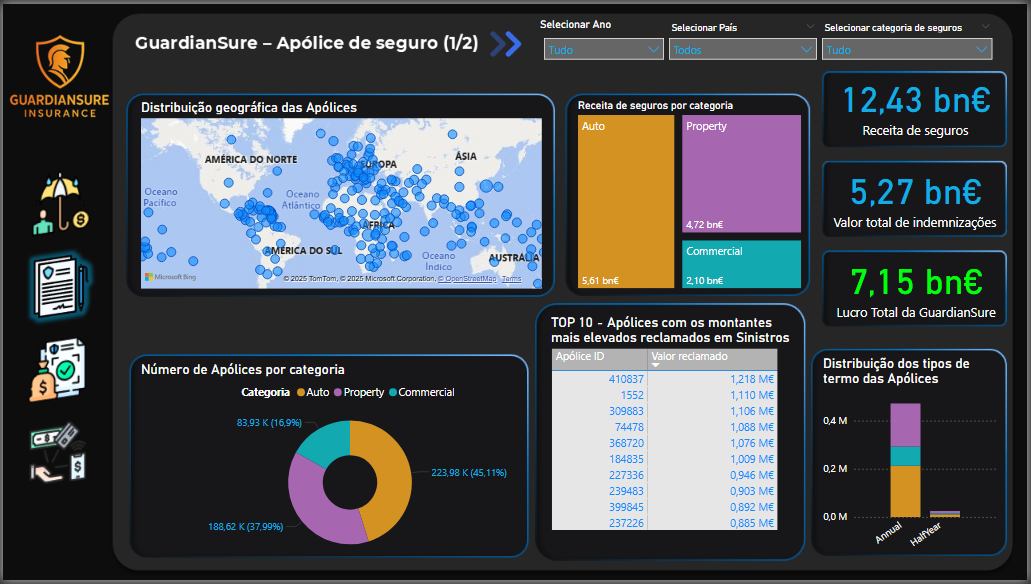

The dashboard page shown, as its layout file describes it:
{"tool":"powerbi","page":{"name":"Apólice de Seguro (1/2)","canvas":[1280,720],"ordinal":2},"visuals":[{"type":"donutChart","title":"Número de Apólices por categoria","fields":{"Y":["Medidas.X_Número total de apólices"],"Category":["fact_PolicyDetails.Product"]},"box":[167.5,445.8,532.5,255.8],"z":0},{"type":"treemap","title":"Receita de seguros por categoria","fields":{"Values":["Medidas.X_Valor total recebido(prémios)"],"Group":["fact_PolicyDetails.Product"]},"box":[713.3,118.3,289.2,241.7],"z":1000},{"type":"columnChart","title":"Distribuição dos tipos de termo das Apólices","fields":{"Category":["fact_PolicyDetails.SelectedTermType"],"Y":["Medidas.X_Número total de apólices"],"Series":["fact_PolicyDetails.Product"]},"box":[1019.7,439.3,227.8,262.5],"z":2000},{"type":"card","fields":{"Values":["Medidas.X_ValorTotalReclamadoPorApolice"]},"box":[1030,191.7,220,96.7],"z":3000},{"type":"slicer","fields":{"Values":["dim_PolicyHolderDetails.Todos os Paises","dim_PolicyHolderDetails.Country"]},"box":[822.5,17.5,205,57.5],"z":4000},{"type":"slicer","fields":{"Values":["fact_PolicyDetails.Product"]},"box":[1013.8,17.5,232.5,57.5],"z":5000},{"type":"card","fields":{"Values":["Medidas.X_Valor total recebido(prémios)"]},"box":[1025.8,75,229.2,99.2],"z":6000},{"type":"map","title":"Distribuição geográfica das Apólices","fields":{"Category":["dim_PolicyHolderDetails.Country"],"Size":["Medidas.X_Número total de apólices"]},"box":[167.5,118.3,510.8,241.7],"z":7000},{"type":"actionButton","box":[22.5,192.5,100,107.5],"z":8000},{"type":"actionButton","box":[22.5,400.8,100,107.5],"z":9000},{"type":"actionButton","box":[22.5,508.3,100,107.5],"z":10000},{"type":"card","fields":{"Values":["Medidas.Lucro Total"]},"box":[1030.8,304.2,220,96.7],"z":11000},{"type":"tableEx","title":"TOP 10 - Apólices com os montantes mais elevados reclamados em Sinistros","fields":{"Values":["fact_Claims.PolicyID","Medidas.X_ValorTotalReclamadoPorApolice"]},"box":[680,387.3,311.8,300],"z":12000},{"type":"actionButton","box":[600.9,29.1,52.7,40],"z":13000},{"type":"slicer","title":"Selecionar Ano","fields":{"Values":["dim_Calendário.Ano"]},"box":[666.2,17.5,170,68.8],"z":14000},{"type":"actionButton","box":[37.5,38.6,66.1,71.6],"z":15000}]}

Visuals, with their boxes in screenshot pixels (x1, y1, x2, y2), scaled from the page's 1280x720 canvas onto the 1031x584 screenshot:
"Número de Apólices por categoria" donutChart: (135, 362, 564, 569)
"Receita de seguros por categoria" treemap: (575, 96, 807, 292)
"Distribuição dos tipos de termo das Apólices" columnChart: (821, 356, 1005, 569)
card - Medidas.X_ValorTotalReclamadoPorApolice: (830, 155, 1007, 234)
slicer - dim_PolicyHolderDetails.Todos os Paises x dim_PolicyHolderDetails.Country: (662, 14, 828, 61)
slicer - fact_PolicyDetails.Product: (817, 14, 1004, 61)
card - Medidas.X_Valor total recebido(prémios): (826, 61, 1011, 141)
"Distribuição geográfica das Apólices" map: (135, 96, 546, 292)
actionButton: (18, 156, 99, 243)
actionButton: (18, 325, 99, 412)
actionButton: (18, 412, 99, 499)
card - Medidas.Lucro Total: (830, 247, 1007, 325)
"TOP 10 - Apólices com os montantes mais elevados reclamados em Sinistros" tableEx: (548, 314, 799, 557)
actionButton: (484, 24, 526, 56)
"Selecionar Ano" slicer: (537, 14, 674, 70)
actionButton: (30, 31, 83, 89)
